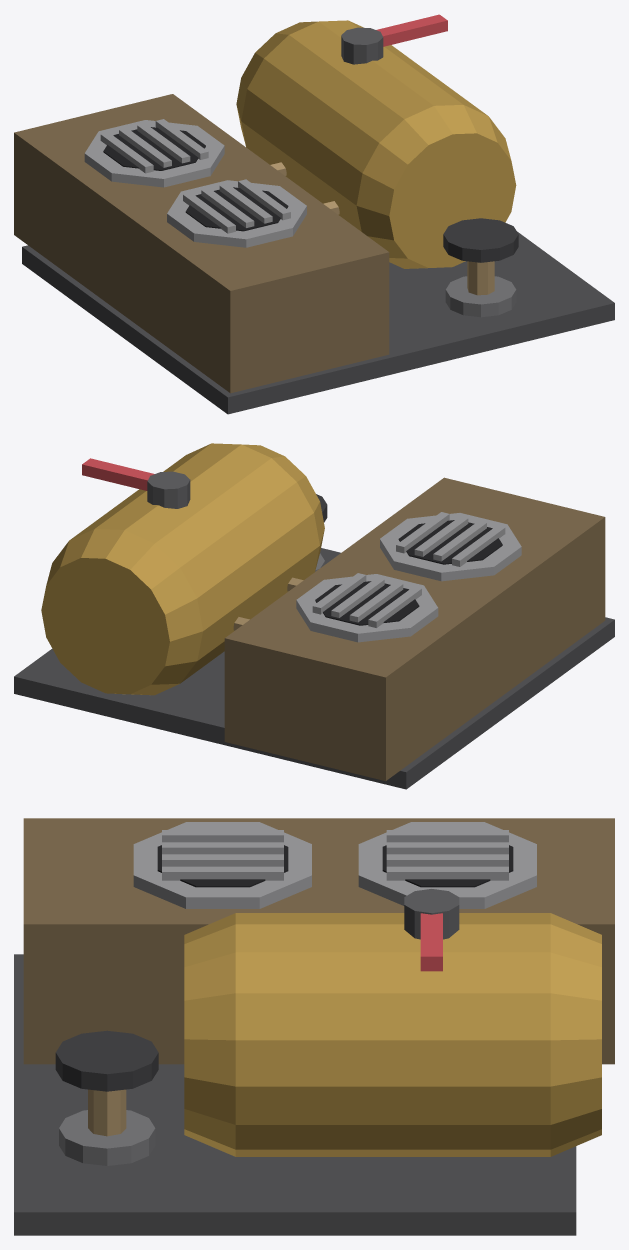
Rendered from vge_oxygen_harvester.obj.
3 renders of one model, top to bottom at view 1: azimuth 30°, elevation 25°; view 2: azimuth 150°, elevation 25°; view 3: azimuth 270°, elevation 25°, orthographic. The views are drawn at different scales.
Parts seen in each view (by area): view 1: vge_oxygen_harvester_1, vge_oxygen_harvester_14, vge_oxygen_harvester_0, vge_oxygen_harvester_2, vge_oxygen_harvester_8, vge_oxygen_harvester_21, vge_oxygen_harvester_19, vge_oxygen_harvester_15, vge_oxygen_harvester_9, vge_oxygen_harvester_3, vge_oxygen_harvester_16, vge_oxygen_harvester_20 (+8 smaller); view 2: vge_oxygen_harvester_1, vge_oxygen_harvester_14, vge_oxygen_harvester_0, vge_oxygen_harvester_2, vge_oxygen_harvester_8, vge_oxygen_harvester_15, vge_oxygen_harvester_9, vge_oxygen_harvester_3, vge_oxygen_harvester_16, vge_oxygen_harvester_4, vge_oxygen_harvester_10, vge_oxygen_harvester_7 (+5 smaller); view 3: vge_oxygen_harvester_14, vge_oxygen_harvester_0, vge_oxygen_harvester_1, vge_oxygen_harvester_8, vge_oxygen_harvester_2, vge_oxygen_harvester_21, vge_oxygen_harvester_19, vge_oxygen_harvester_15, vge_oxygen_harvester_7, vge_oxygen_harvester_13, vge_oxygen_harvester_20, vge_oxygen_harvester_6 (+8 smaller).
Part boxes in pixels (left/top/right/bottom): vge_oxygen_harvester_1: left=14, top=94, right=389, bottom=393; vge_oxygen_harvester_14: left=236, top=20, right=516, bottom=268; vge_oxygen_harvester_0: left=22, top=231, right=614, bottom=414; vge_oxygen_harvester_2: left=84, top=120, right=224, bottom=187; vge_oxygen_harvester_8: left=167, top=180, right=306, bottom=247; vge_oxygen_harvester_21: left=443, top=218, right=518, bottom=262; vge_oxygen_harvester_19: left=445, top=276, right=516, bottom=317; vge_oxygen_harvester_15: left=341, top=27, right=383, bottom=64; vge_oxygen_harvester_9: left=185, top=187, right=288, bottom=231; vge_oxygen_harvester_3: left=103, top=127, right=205, bottom=170; vge_oxygen_harvester_16: left=376, top=14, right=447, bottom=46; vge_oxygen_harvester_20: left=467, top=261, right=494, bottom=295; vge_oxygen_harvester_1: left=224, top=477, right=605, bottom=781; vge_oxygen_harvester_14: left=41, top=443, right=324, bottom=695; vge_oxygen_harvester_0: left=14, top=548, right=614, bottom=789; vge_oxygen_harvester_2: left=296, top=574, right=438, bottom=642; vge_oxygen_harvester_8: left=380, top=513, right=521, bottom=581; vge_oxygen_harvester_15: left=147, top=471, right=190, bottom=508; vge_oxygen_harvester_9: left=398, top=520, right=502, bottom=564; vge_oxygen_harvester_3: left=315, top=581, right=419, bottom=625; vge_oxygen_harvester_16: left=82, top=458, right=154, bottom=490; vge_oxygen_harvester_4: left=368, top=586, right=421, bottom=627; vge_oxygen_harvester_10: left=452, top=525, right=505, bottom=566; vge_oxygen_harvester_7: left=312, top=573, right=366, bottom=614; vge_oxygen_harvester_14: left=184, top=913, right=601, bottom=1156; vge_oxygen_harvester_0: left=14, top=954, right=576, bottom=1235; vge_oxygen_harvester_1: left=23, top=818, right=614, bottom=1064; vge_oxygen_harvester_8: left=133, top=822, right=311, bottom=908; vge_oxygen_harvester_2: left=358, top=822, right=536, bottom=908; vge_oxygen_harvester_21: left=55, top=1030, right=158, bottom=1091; vge_oxygen_harvester_19: left=59, top=1110, right=155, bottom=1165; vge_oxygen_harvester_15: left=404, top=889, right=459, bottom=939; vge_oxygen_harvester_7: left=386, top=866, right=508, bottom=880; vge_oxygen_harvester_13: left=162, top=866, right=283, bottom=880; vge_oxygen_harvester_20: left=88, top=1089, right=126, bottom=1136; vge_oxygen_harvester_6: left=386, top=854, right=508, bottom=866.
Size of the model in its own units: 1.9 by 0.92 by 1.87.
